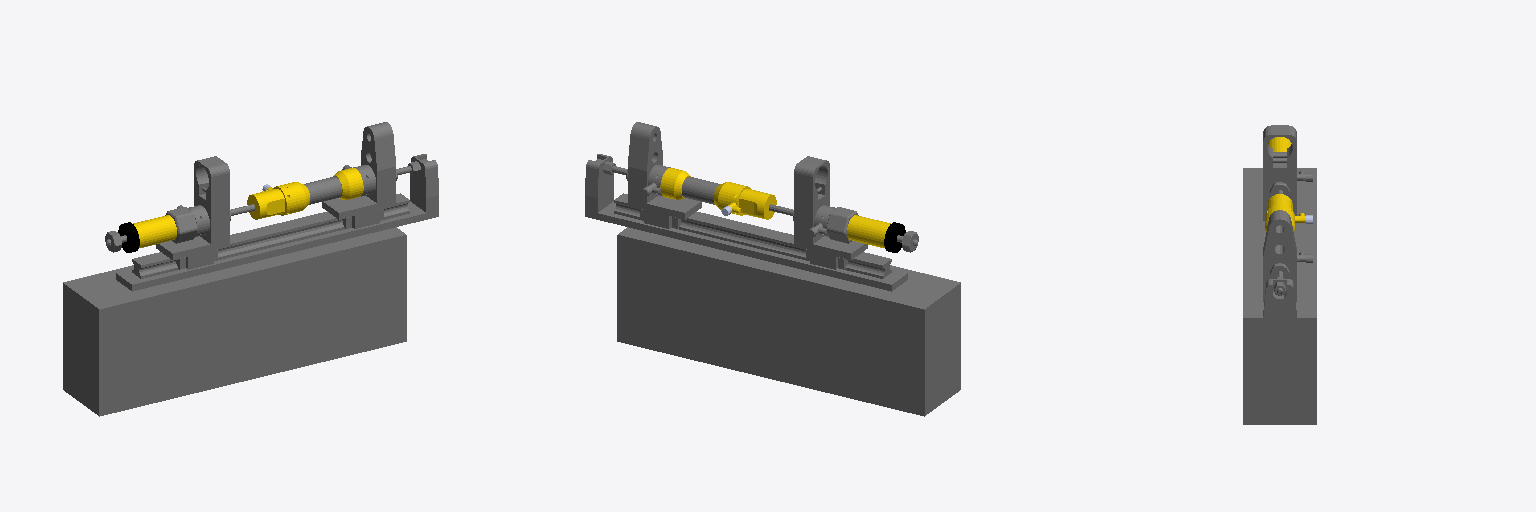
File: Pin_Insertion_Static.obj
3 renders of one model, left to right at view 1: azimuth 30°, elevation 25°; view 2: azimuth 150°, elevation 25°; view 3: azimuth 270°, elevation 25°, orthographic.
Parts seen in each view (by area): view 1: _[number redacted]_[number redacted]_[number redacted], _[number redacted]_[number redacted]_[number redacted]_[number redacted]_[number redacted]; view 2: _[number redacted]_[number redacted]_[number redacted], _[number redacted]_[number redacted]_[number redacted]_[number redacted]_[number redacted], _[number redacted]; view 3: _[number redacted]_[number redacted]_[number redacted], _[number redacted]_[number redacted]_[number redacted]_[number redacted]_[number redacted].
Boxes of the visible parts, <box> form: _[number redacted]_[number redacted]_[number redacted]: <box>63,122,438,416</box>; _[number redacted]_[number redacted]_[number redacted]_[number redacted]_[number redacted]: <box>133,168,363,247</box>; _[number redacted]_[number redacted]_[number redacted]: <box>585,122,960,416</box>; _[number redacted]_[number redacted]_[number redacted]_[number redacted]_[number redacted]: <box>660,168,890,247</box>; _[number redacted]: <box>721,206,905,252</box>; _[number redacted]_[number redacted]_[number redacted]: <box>1243,125,1316,424</box>; _[number redacted]_[number redacted]_[number redacted]_[number redacted]_[number redacted]: <box>1265,137,1305,231</box>.
Bounding box in the file's own units: 547 × 312 × 100.